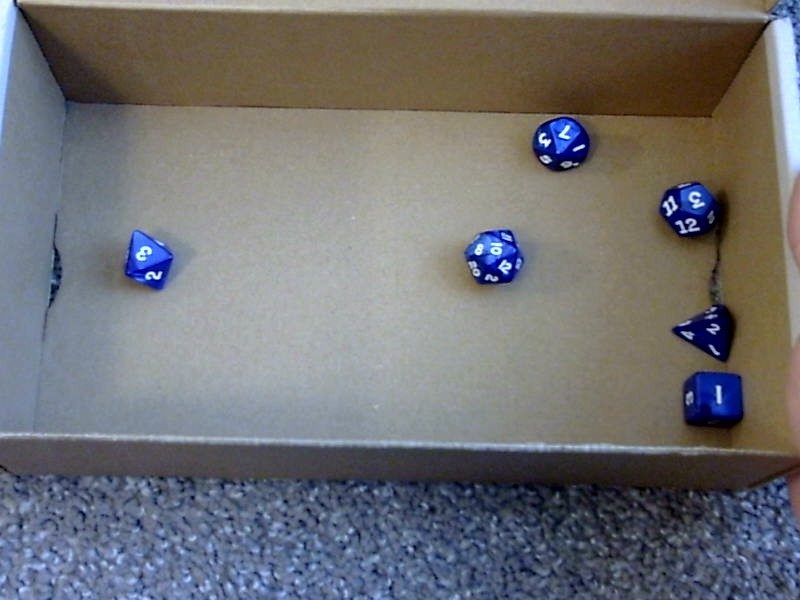d10 7: (531, 113, 591, 173)
d12 3: (659, 177, 719, 241)
d20 10: (459, 222, 526, 289)
d4 2: (669, 299, 739, 363)
d6 1: (679, 367, 751, 430)
d8 3: (118, 221, 182, 294)
